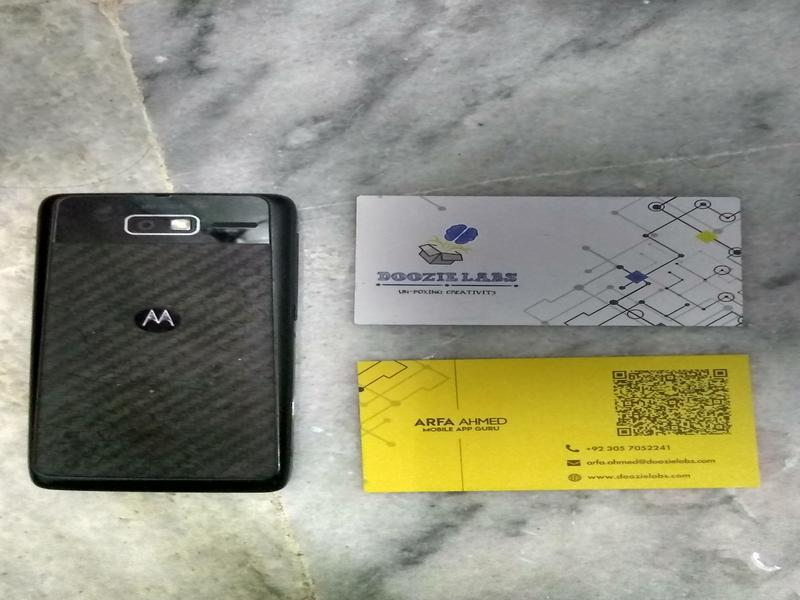back: (352, 194, 744, 326)
front: (352, 357, 765, 488)
moto: (32, 191, 302, 496)
